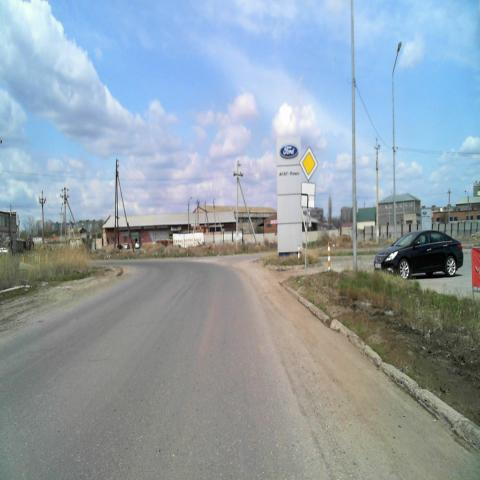8_13: (300, 181, 316, 209)
